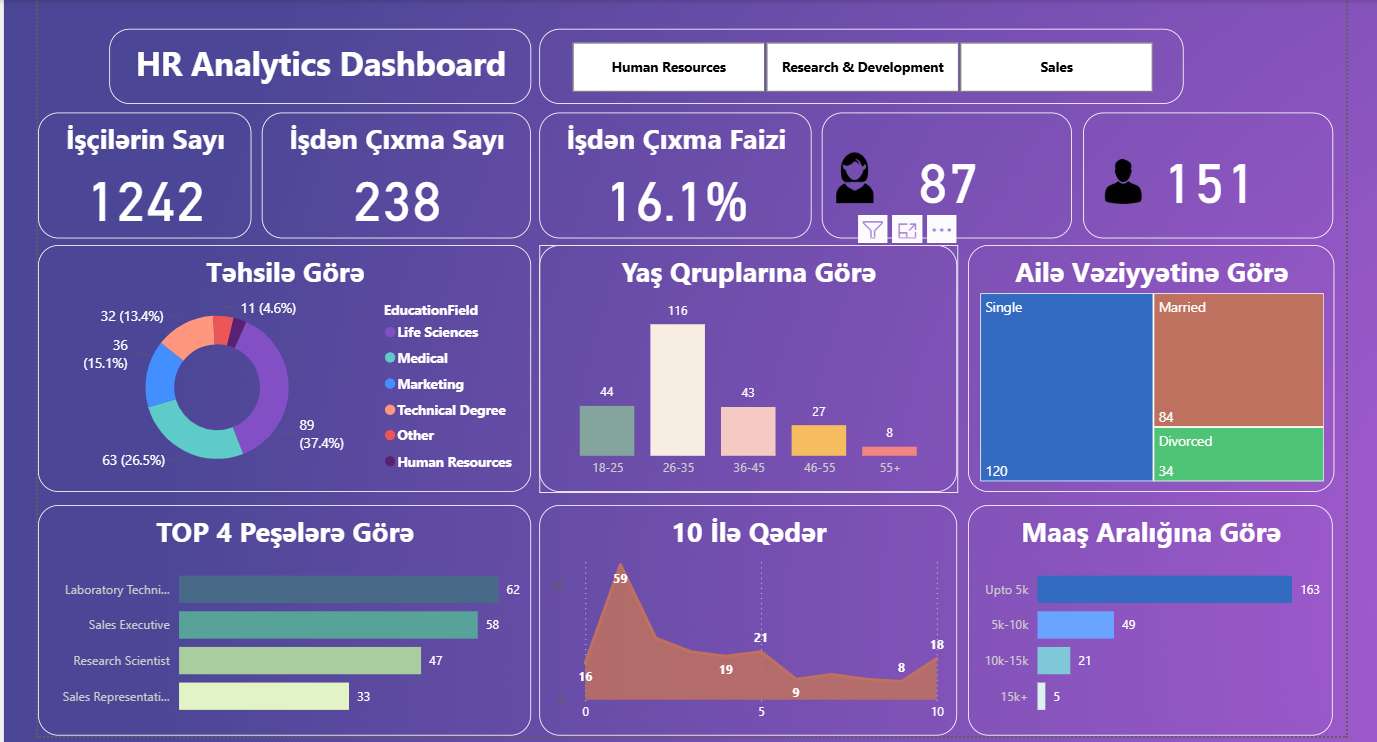

The dashboard page shown, as its layout file describes it:
{"tool":"powerbi","page":{"name":"Page 1","canvas":[1280,720],"ordinal":0},"visuals":[{"type":"textbox","box":[69.9,27.7,412.5,73.6],"z":0},{"type":"slicer","fields":{"Values":["HR_Analytics.Department"]},"box":[490.9,27.7,630.8,73.6],"z":1000},{"type":"card","title":"İşçilərin Sayı","fields":{"Values":["HR_Analytics.jhj"]},"box":[0,109.7,208.6,123],"z":2000},{"type":"card","title":"İşdən Çıxma Faizi","fields":{"Values":["HR_Analytics.İşdən çıxma faiz"]},"box":[490.9,109.7,266.5,123],"z":3000},{"type":"card","title":"İşdən Çıxma Sayı","fields":{"Values":["HR_Analytics.İşdən çıxma sayı"]},"box":[219.5,109.7,262.9,123],"z":4000},{"type":"donutChart","title":" Təhsilə Görə","fields":{"Y":["HR_Analytics.İşdən çıxma sayı"],"Category":["HR_Analytics.EducationField"]},"box":[0,240,482.4,241.2],"z":5000},{"type":"columnChart","title":"Yaş Qruplarına Görə","fields":{"Y":["HR_Analytics.İşdən çıxma sayı"],"Category":["HR_Analytics.AgeGroup"]},"box":[490.9,240,408.8,241.2],"z":6000},{"type":"barChart","title":"TOP 4 Peşələrə Görə","fields":{"Category":["HR_Analytics.JobRole"],"Y":["Hesablamalar.İşdən çıxma sayı"]},"box":[0,494.5,482.4,225.5],"z":7000},{"type":"areaChart","title":"10 İlə Qədər ","fields":{"Category":["HR_Analytics.YearsAtCompany"],"Y":["Hesablamalar.İşdən çıxma sayı"]},"box":[490.9,494.5,408.8,225.5],"z":8000},{"type":"card","fields":{"Values":["Hesablamalar.İşdən Çıxan Qadın Sayı"]},"box":[767,109.7,244.8,123],"z":9000},{"type":"card","fields":{"Values":["Hesablamalar.İşdən Çıxan Kişi Sayı"]},"box":[1022.7,109.7,244.8,123],"z":10000},{"type":"treemap","title":"Ailə Vəziyyətinə Görə","fields":{"Group":["HR_Analytics.MaritalStatus"],"Values":["Hesablamalar.İşdən çıxma sayı"]},"box":[909.3,240,358.2,241.2],"z":11000},{"type":"barChart","title":"Maaş Aralığına Görə","fields":{"Y":["Hesablamalar.İşdən çıxma sayı"],"Category":["HR_Analytics.SalarySlab"]},"box":[909.3,494.5,357,225.5],"z":12000},{"type":"image","box":[1034.8,144.7,54.3,66.3],"z":13000},{"type":"image","box":[767,144.7,65.1,59.1],"z":14000}]}

Visuals, with their boxes in screenshot pixels (x1, y1, x2, y2):
textbox: pyautogui.locateOnScreen(107, 28, 526, 103)
slicer - HR_Analytics.Department: pyautogui.locateOnScreen(535, 28, 1176, 103)
"İşçilərin Sayı" card: pyautogui.locateOnScreen(36, 112, 248, 237)
"İşdən Çıxma Faizi" card: pyautogui.locateOnScreen(535, 112, 806, 237)
"İşdən Çıxma Sayı" card: pyautogui.locateOnScreen(259, 112, 526, 237)
" Təhsilə Görə" donutChart: pyautogui.locateOnScreen(36, 244, 526, 489)
"Yaş Qruplarına Görə" columnChart: pyautogui.locateOnScreen(535, 244, 951, 489)
"TOP 4 Peşələrə Görə" barChart: pyautogui.locateOnScreen(36, 503, 526, 732)
"10 İlə Qədər " areaChart: pyautogui.locateOnScreen(535, 503, 951, 732)
card - Hesablamalar.İşdən Çıxan Qadın Sayı: pyautogui.locateOnScreen(816, 112, 1065, 237)
card - Hesablamalar.İşdən Çıxan Kişi Sayı: pyautogui.locateOnScreen(1076, 112, 1325, 237)
"Ailə Vəziyyətinə Görə" treemap: pyautogui.locateOnScreen(960, 244, 1325, 489)
"Maaş Aralığına Görə" barChart: pyautogui.locateOnScreen(960, 503, 1323, 732)
image: pyautogui.locateOnScreen(1088, 147, 1143, 215)
image: pyautogui.locateOnScreen(816, 147, 882, 207)
